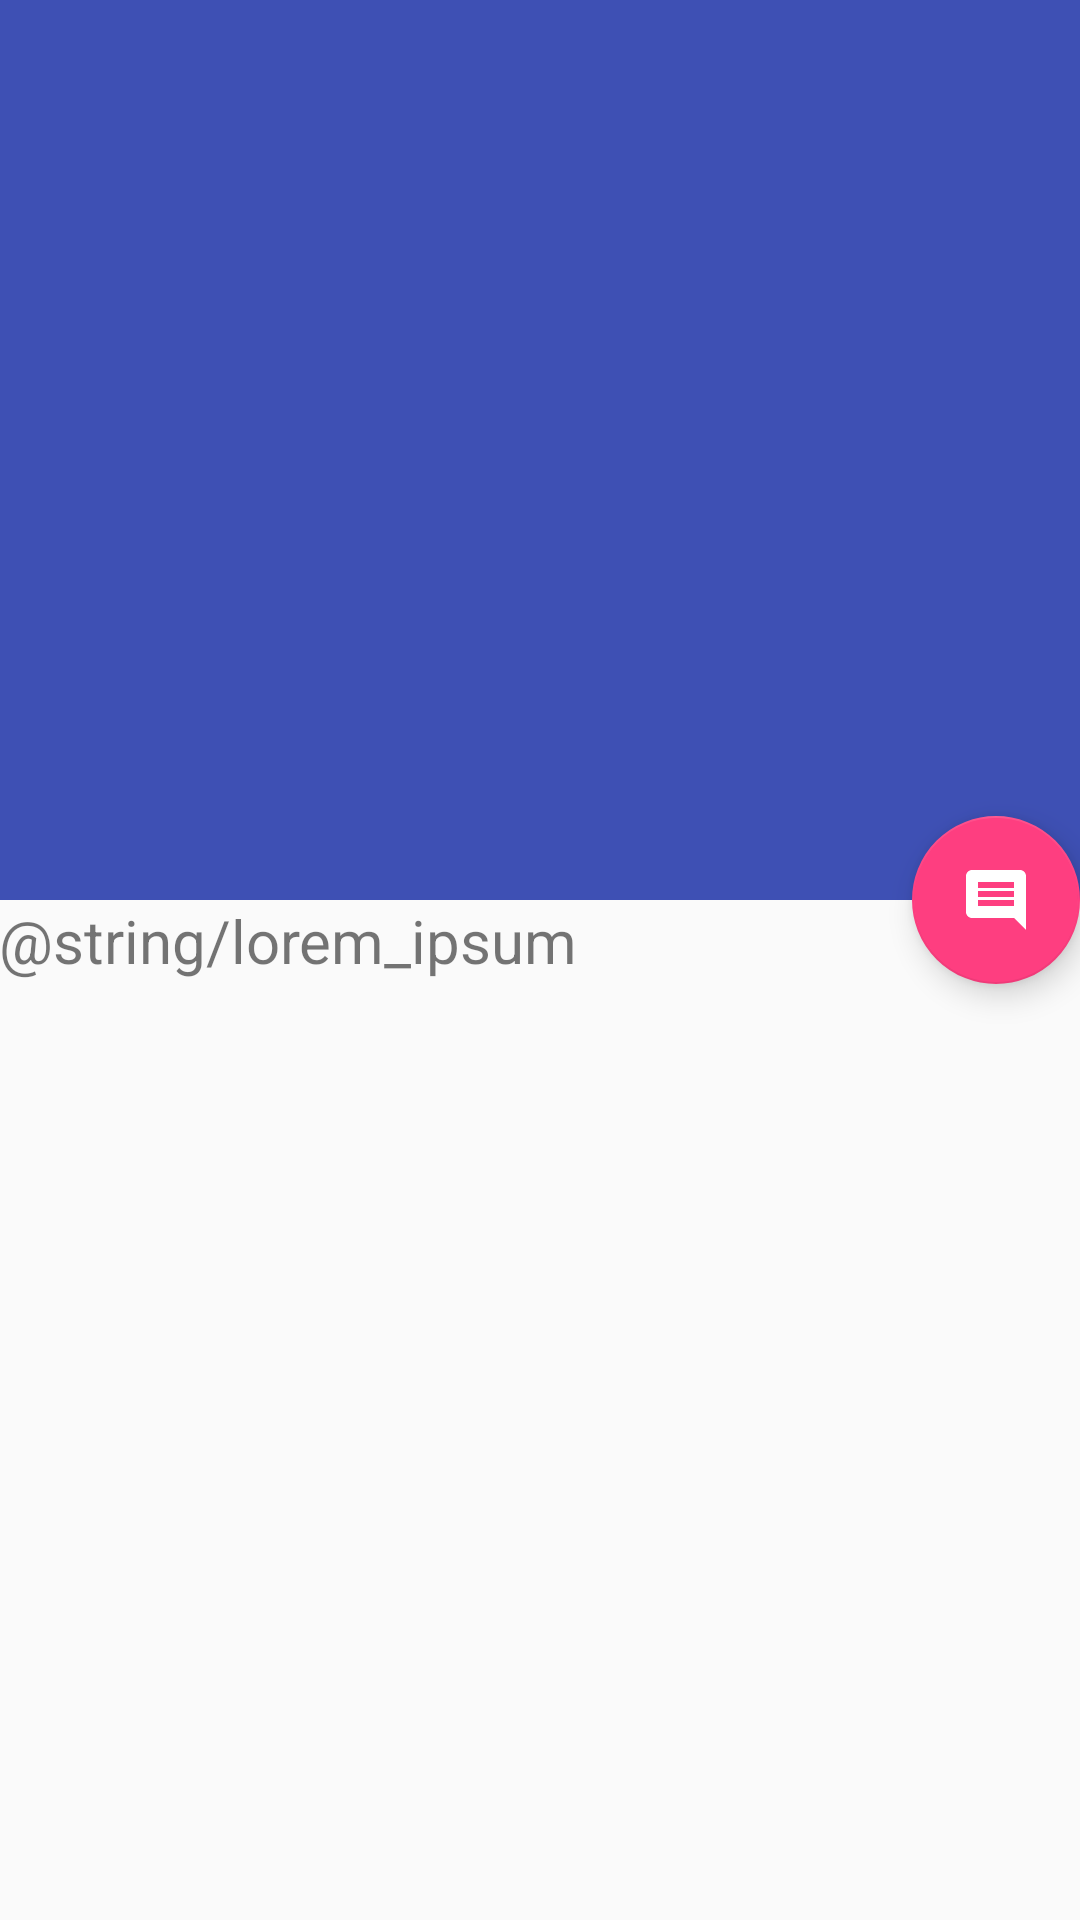

Screen size 1080x1920. Icon name, then its center in pixels as point (x, y):
comment: point (996, 900)
